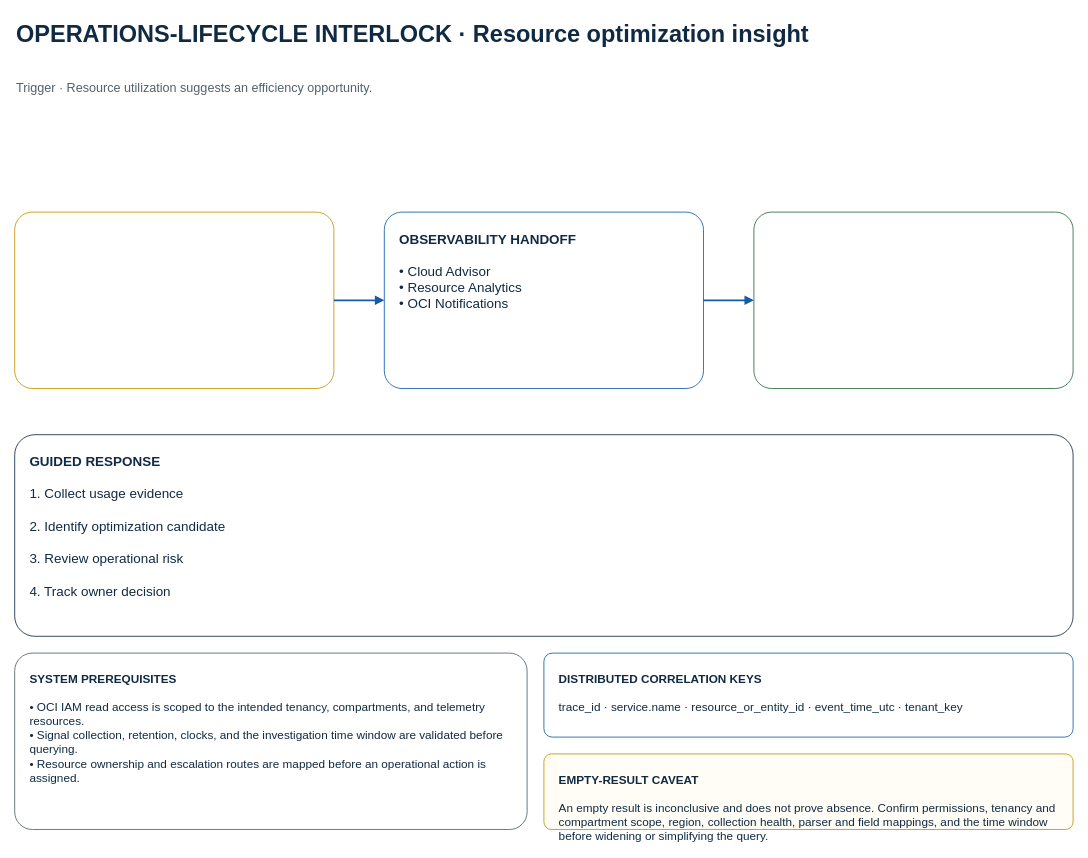
The diagram is 1088 pixels wide and 858 high, and some of its shapes have lost their labels. Here are the shapes that lost their labels. From the top down, the centre of each, then its label:
point (174, 299): SOURCE EVIDENCE • Usage metrics • Resource inventory • Cost context
point (913, 299): OPERATIONAL OUTCOME • Give owners an evidence-based optimization recommendation.
